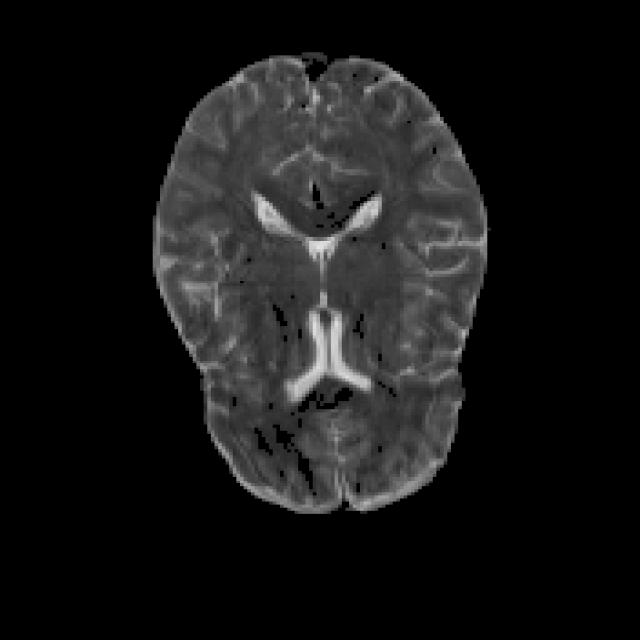parkinson: (149, 49, 487, 514)
